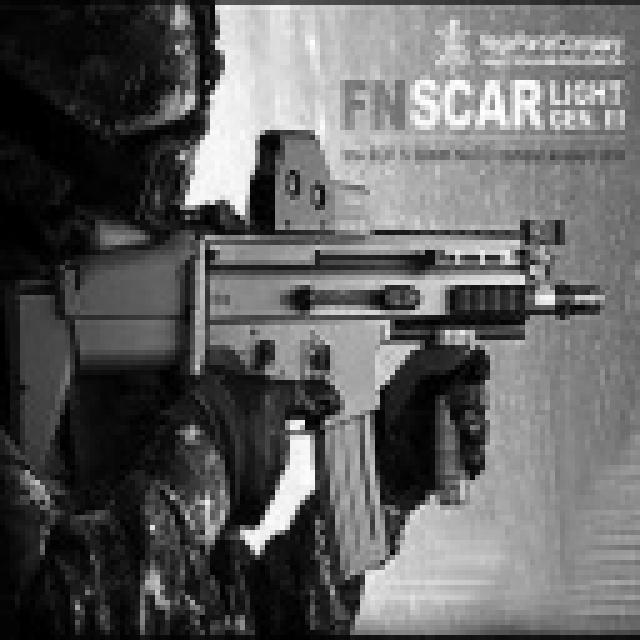Rifle: (0, 98, 629, 592)
